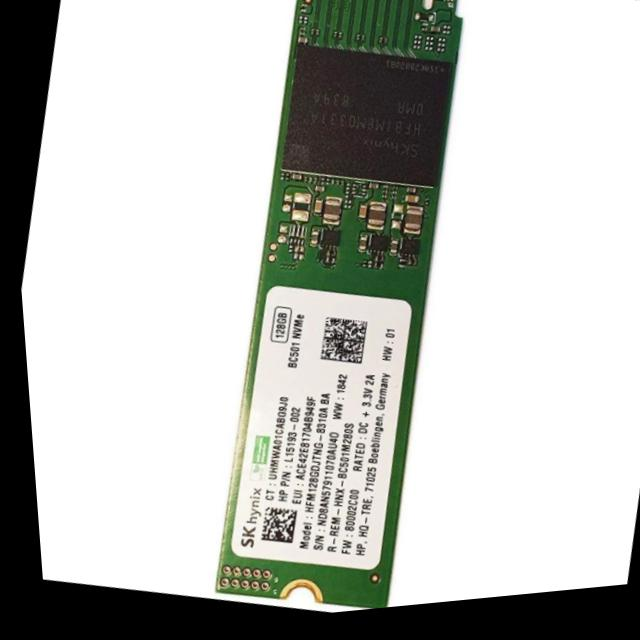datamatrix: (312, 320, 364, 373), (251, 508, 291, 551)
